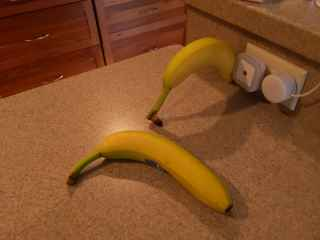banana: (63, 127, 243, 219), (145, 35, 242, 127)
